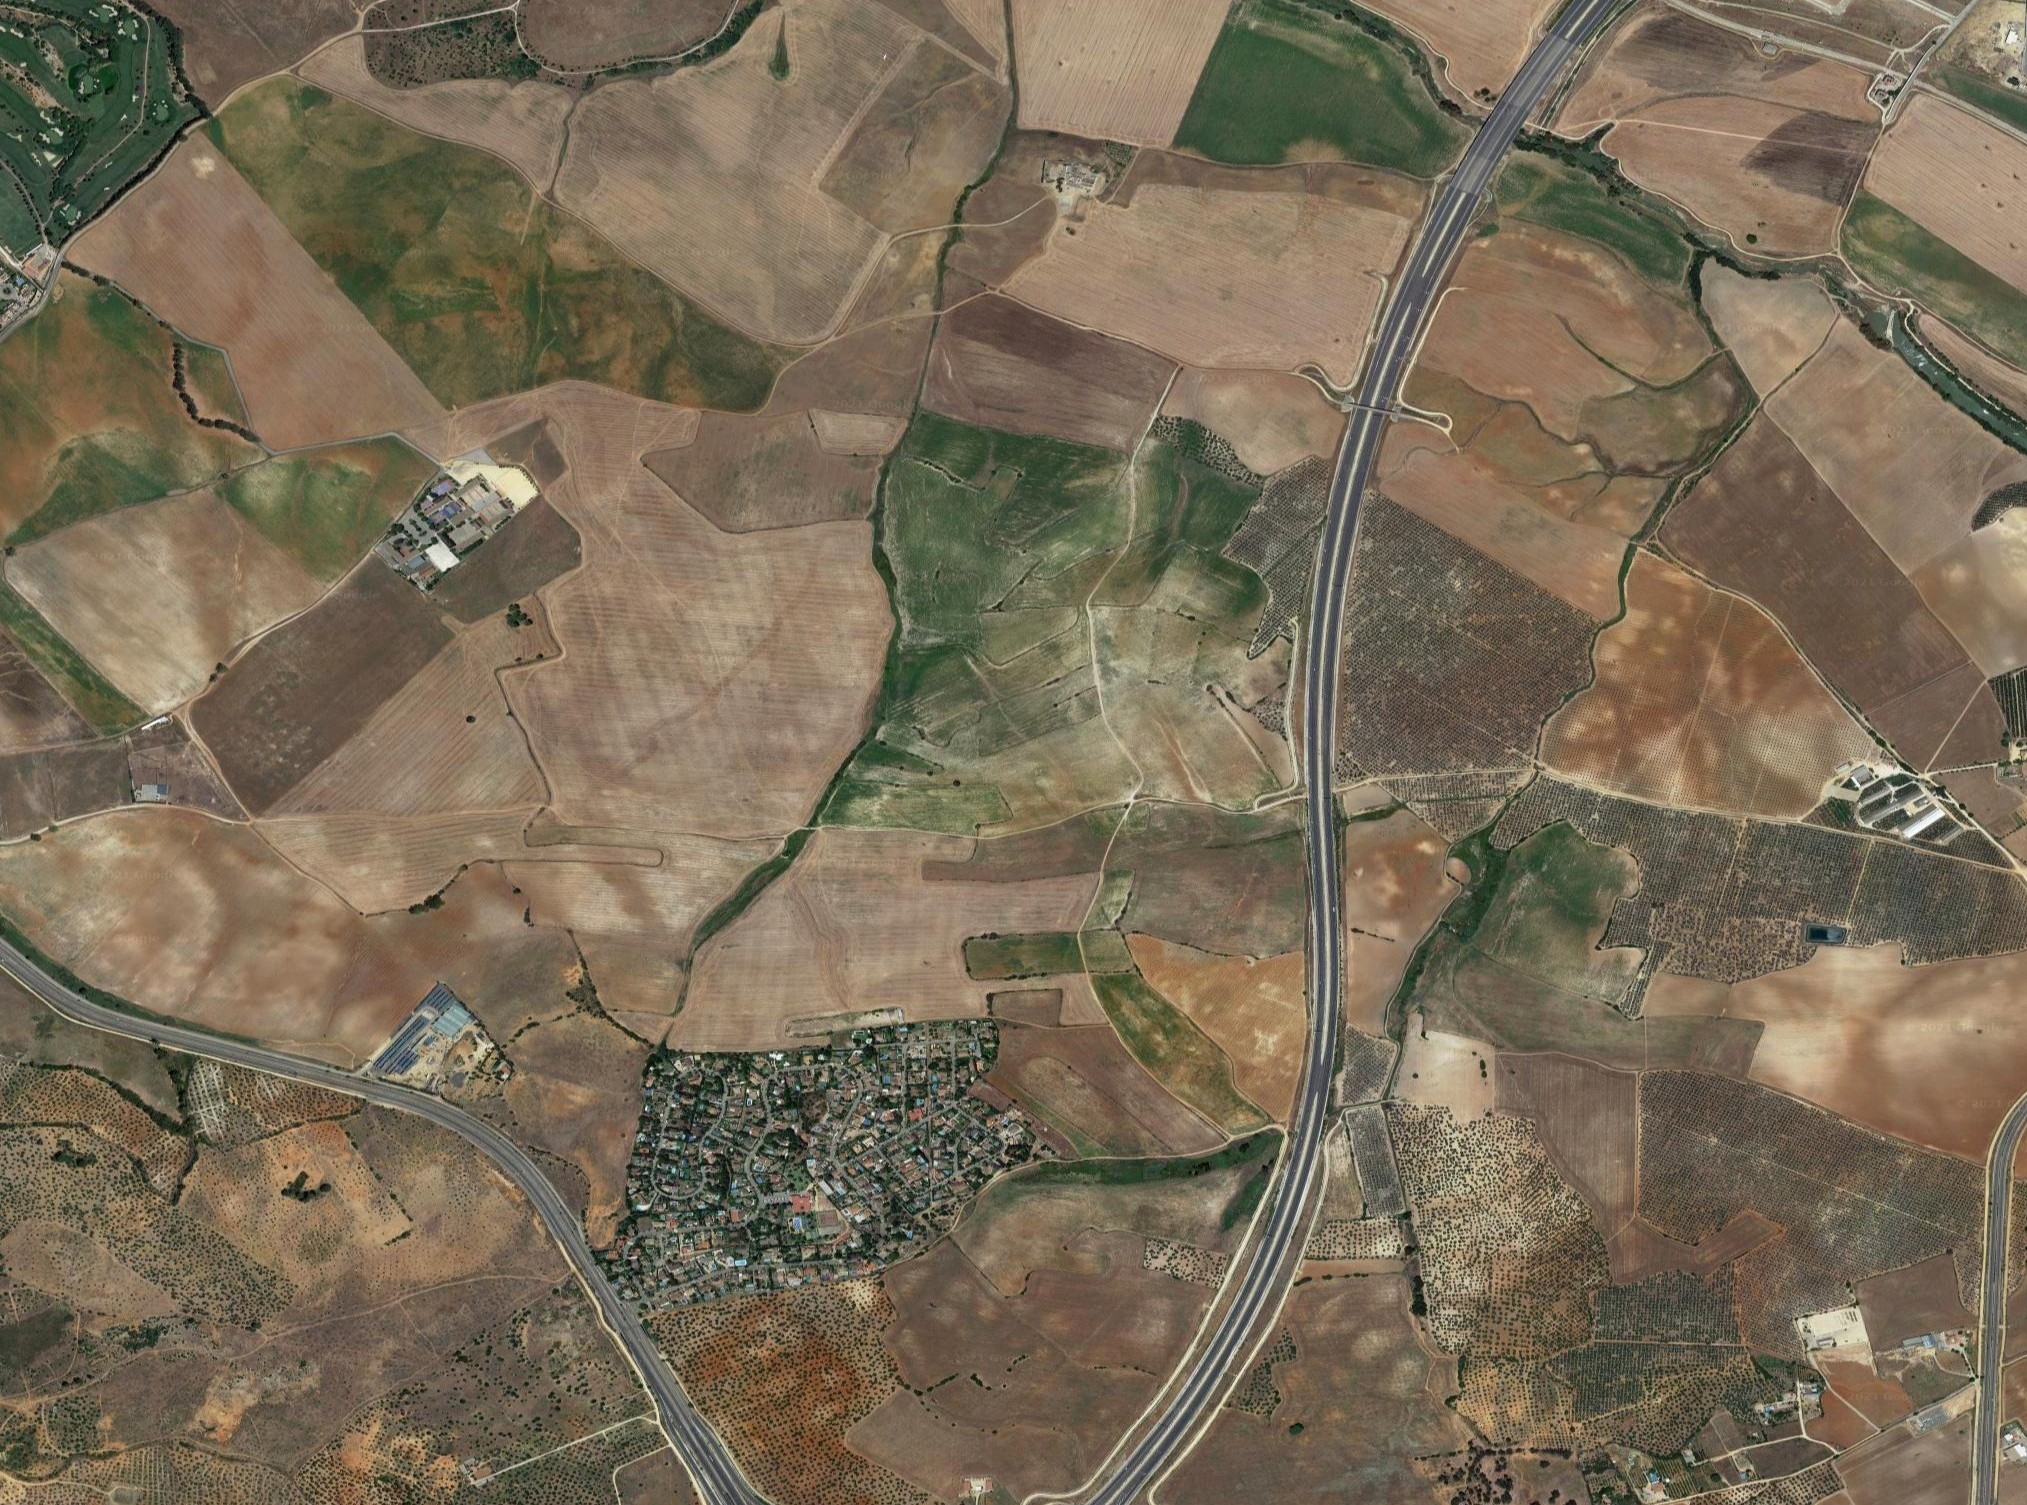motorway: (1352, 3, 1587, 451), (2, 920, 379, 1119), (1274, 439, 1379, 993), (383, 1067, 602, 1290), (1216, 993, 1353, 1325), (1047, 1317, 1244, 1505), (591, 1279, 756, 1505), (1957, 1084, 2027, 1505)
